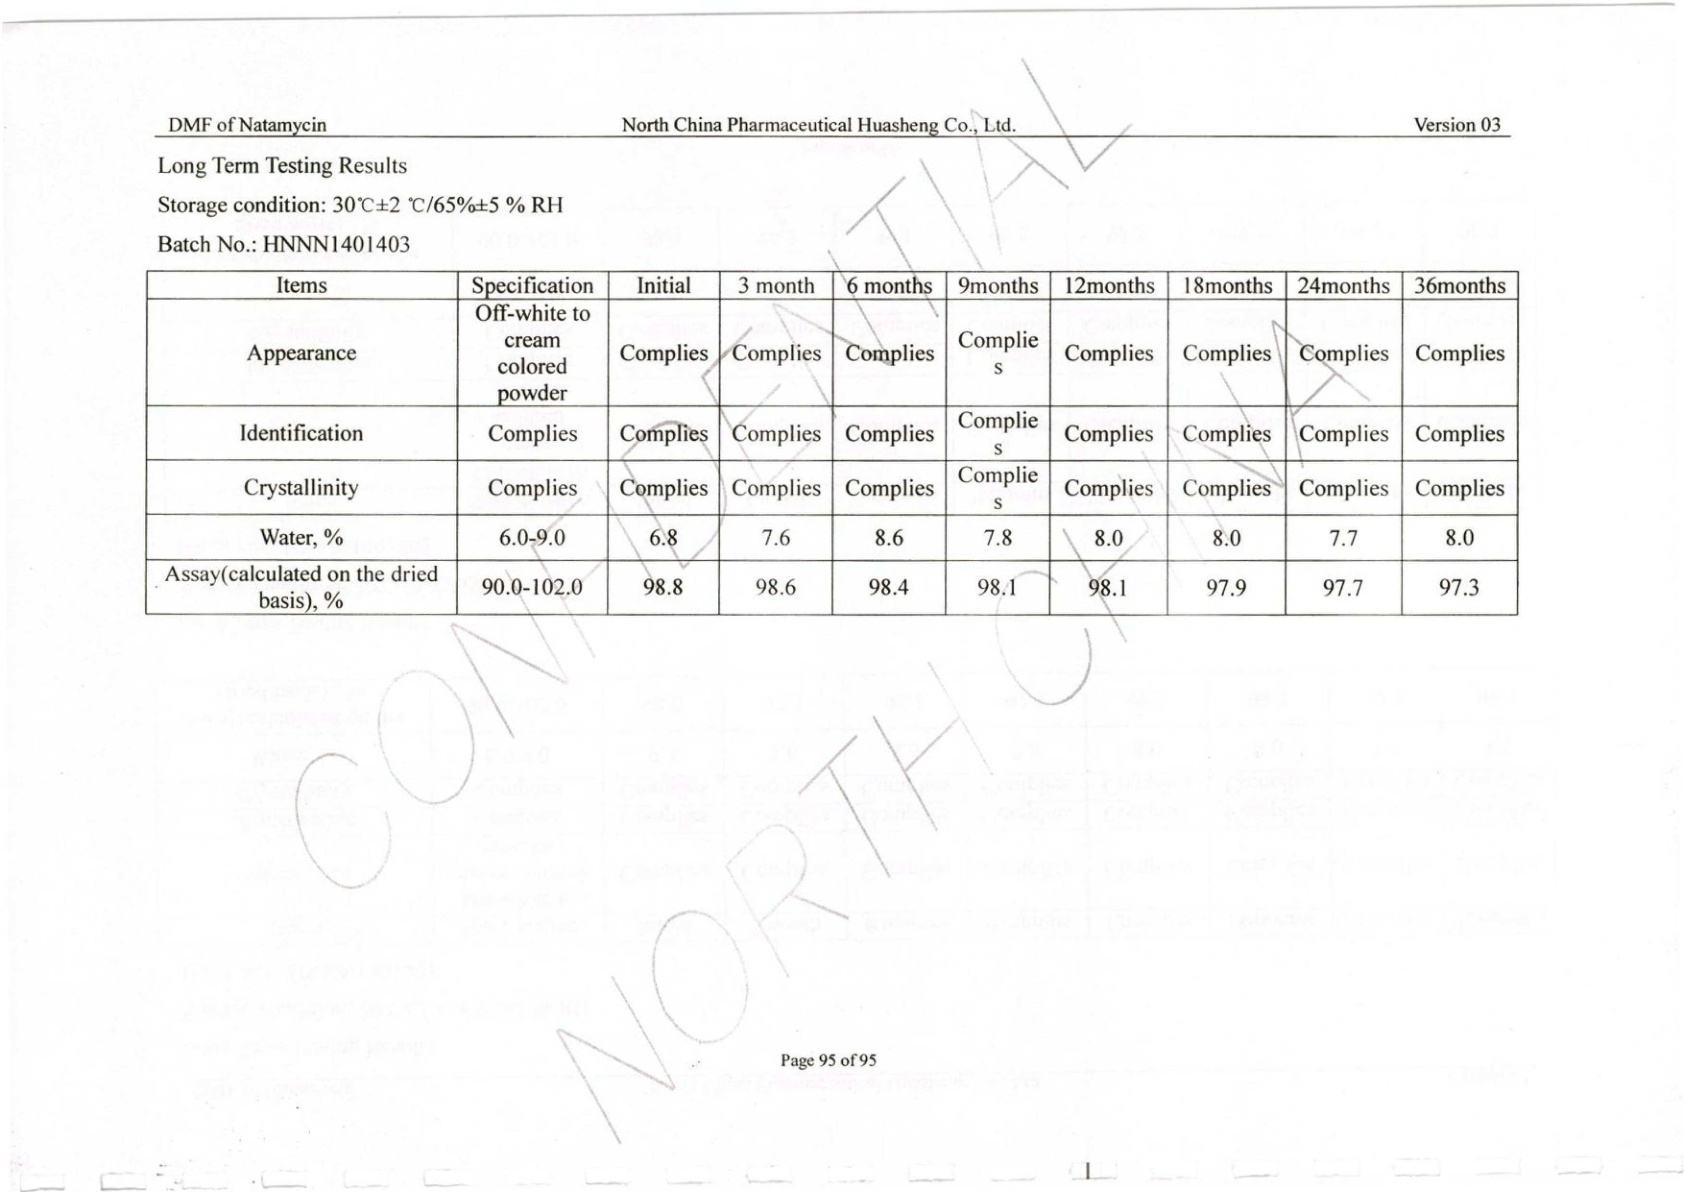full_lined: (144, 270, 1519, 617)
